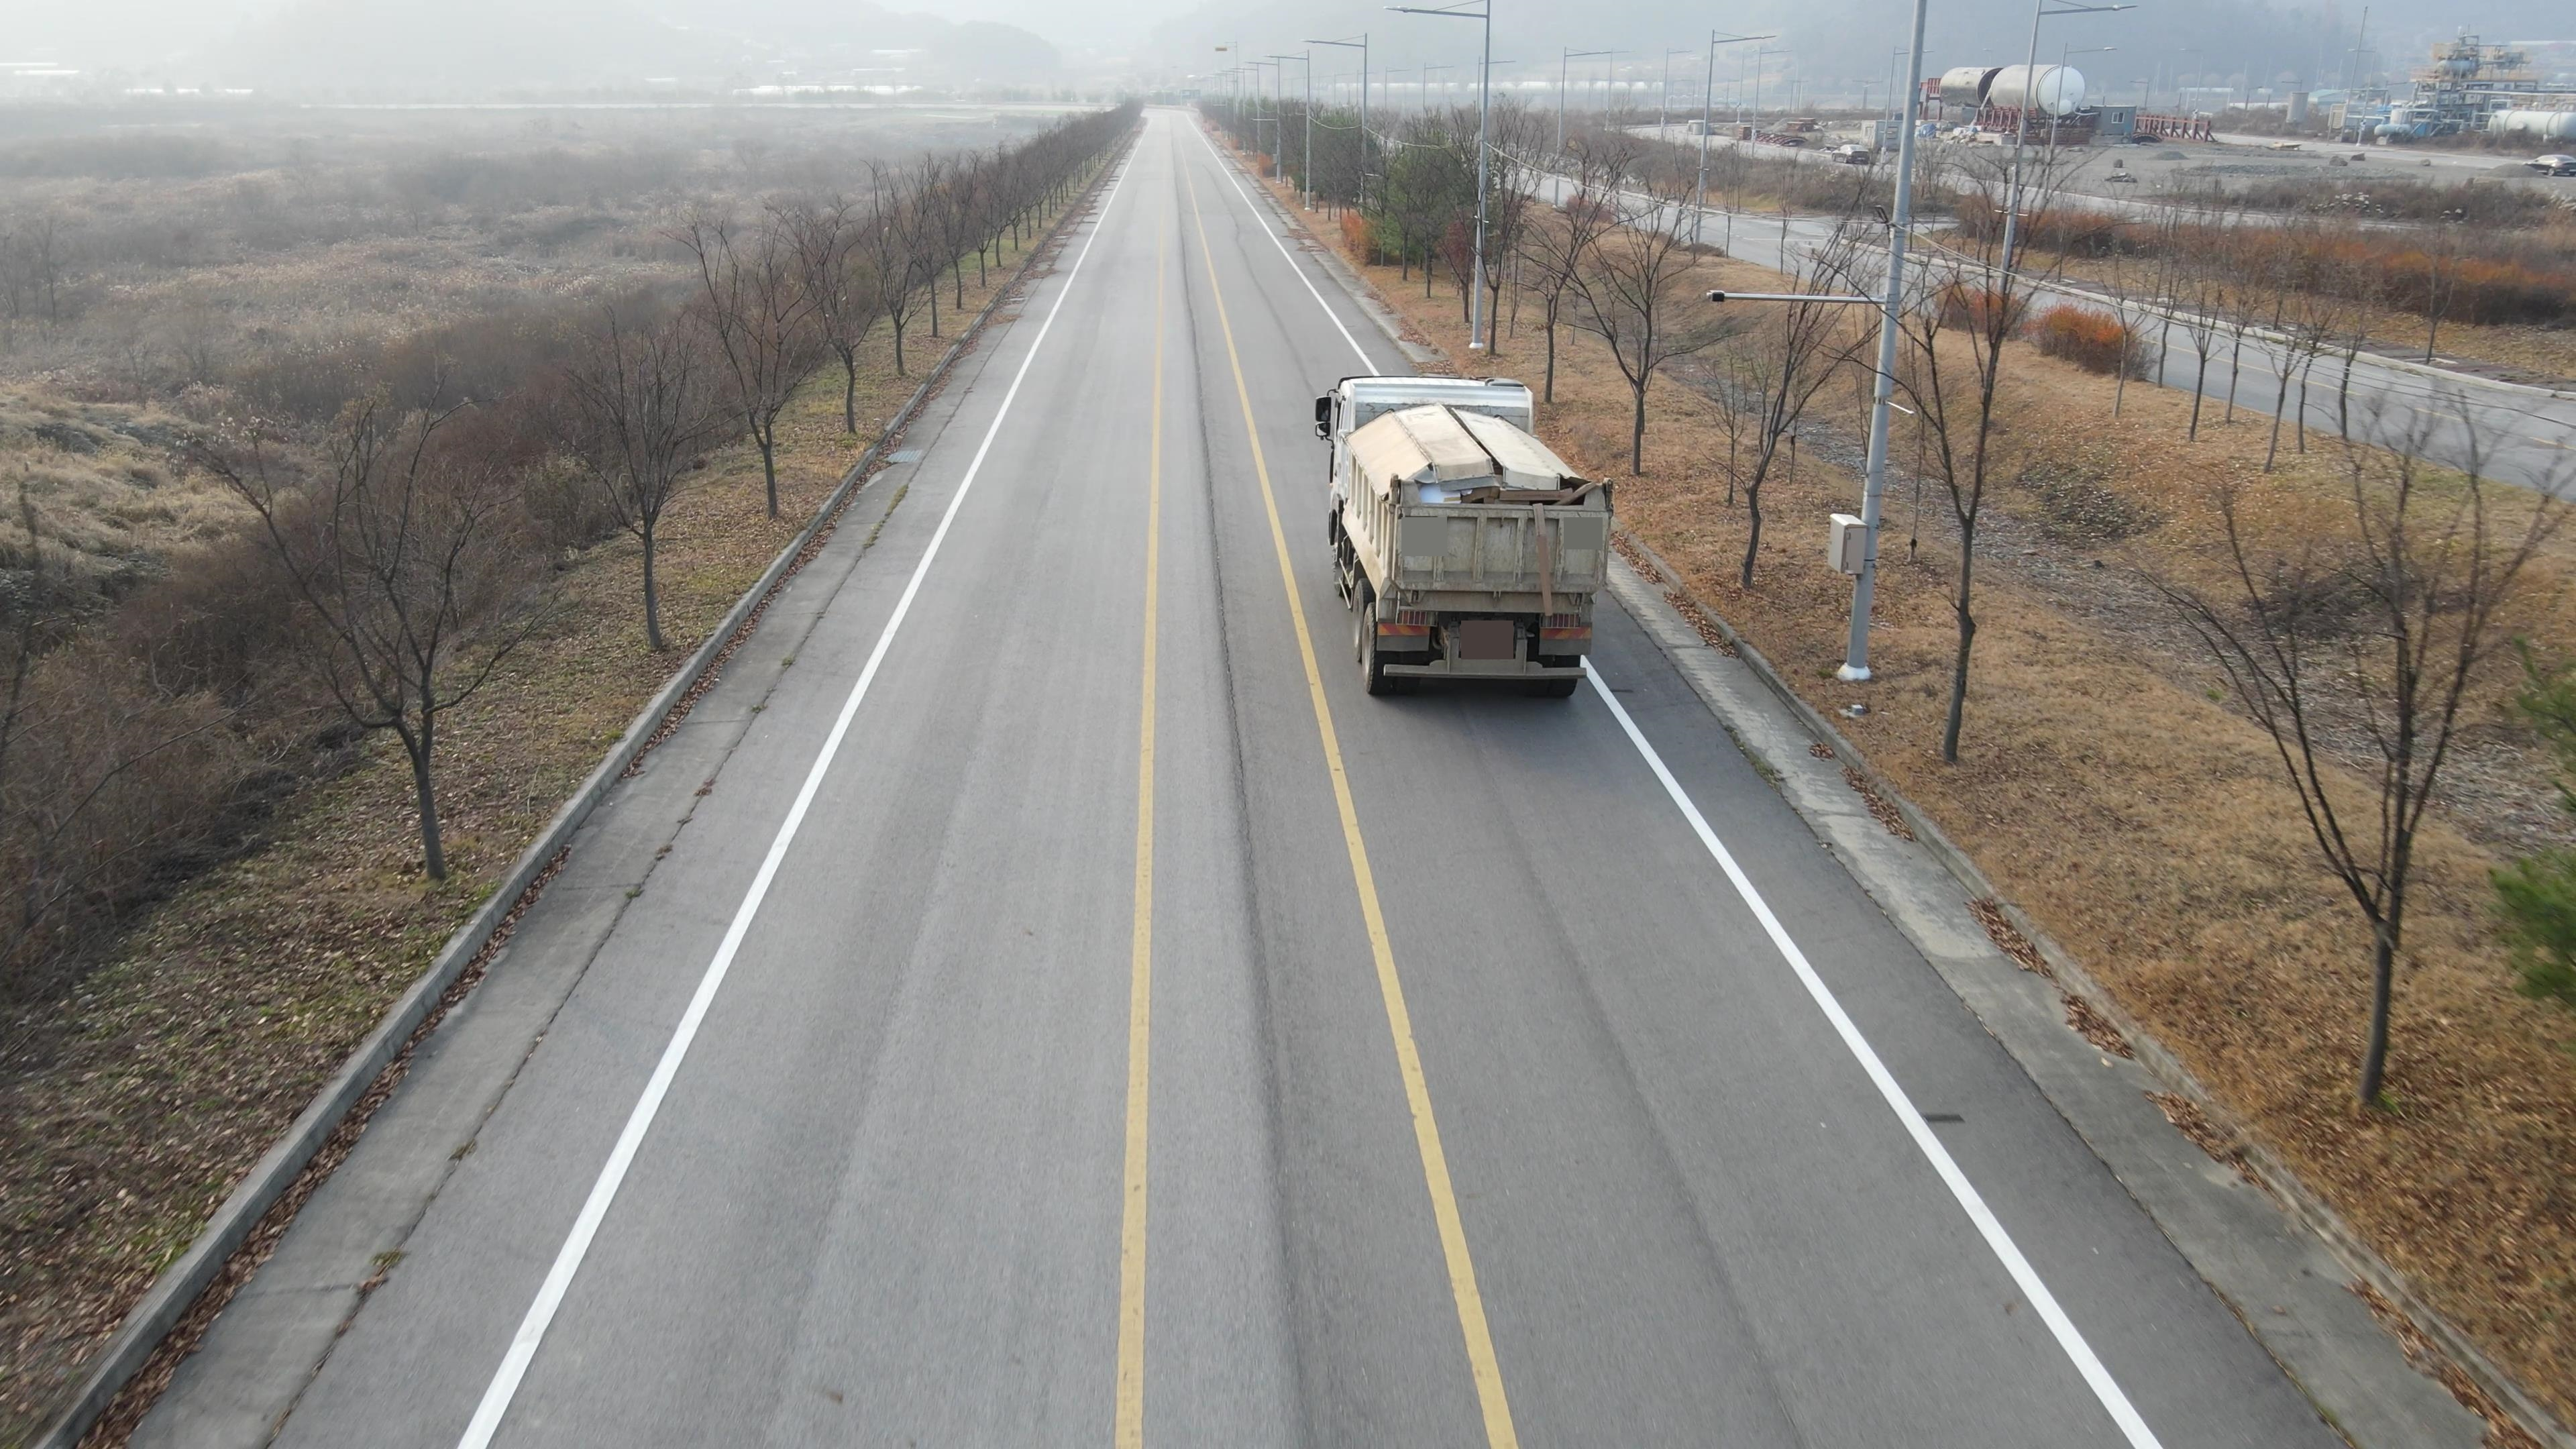불법차량: (1316, 375, 1614, 698)
